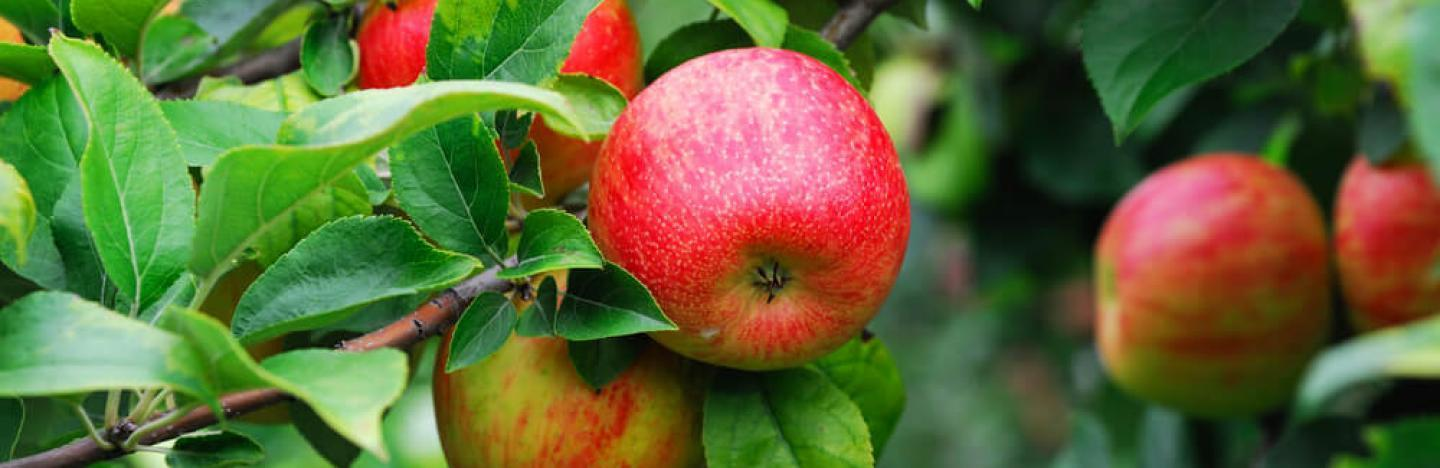apple: (577, 41, 904, 361), (1090, 150, 1320, 413), (431, 293, 704, 467)
